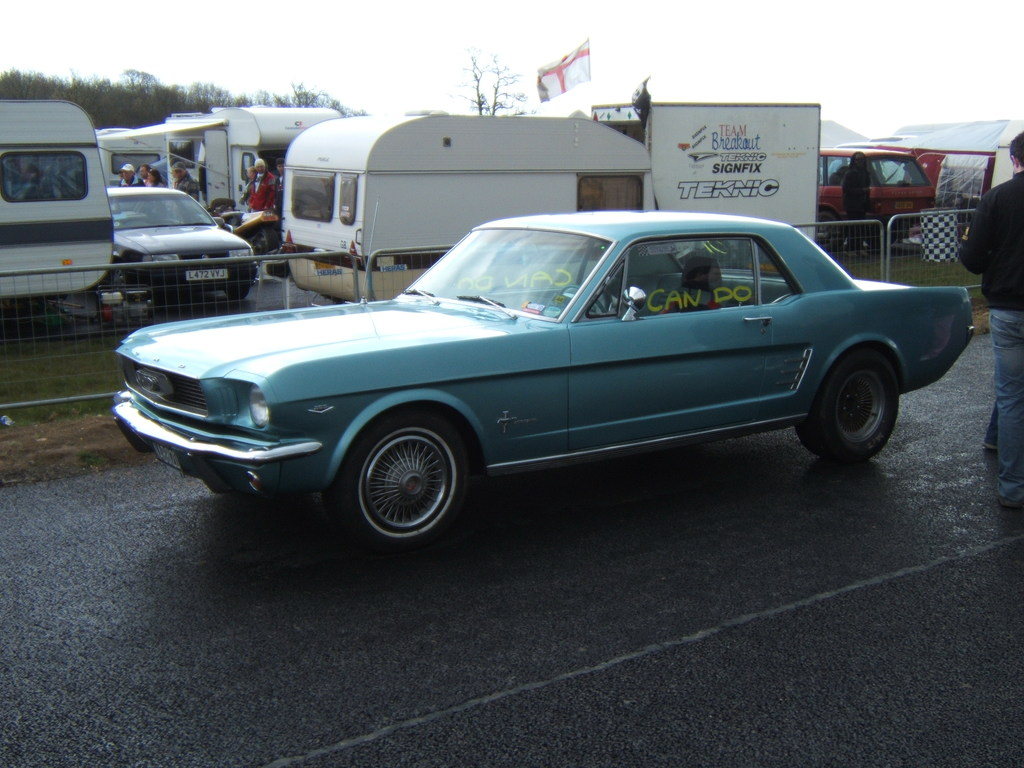Person: (954, 130, 1023, 506), (843, 150, 872, 254), (249, 160, 276, 210), (172, 161, 200, 199), (237, 167, 258, 212), (117, 161, 145, 187), (277, 158, 284, 207), (148, 169, 165, 187), (140, 164, 152, 187)
